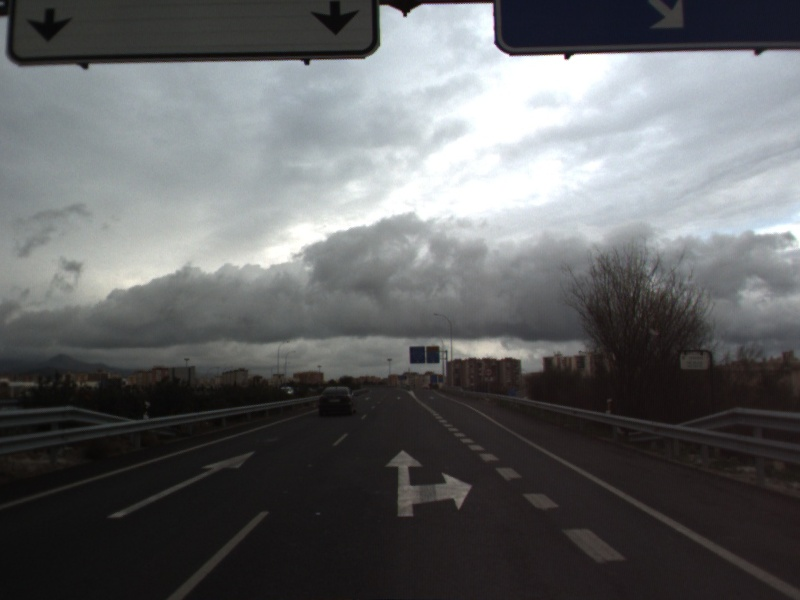STRAIGHT: (105, 449, 258, 520)
STRAIGHT_RIGHT: (382, 447, 475, 519)
